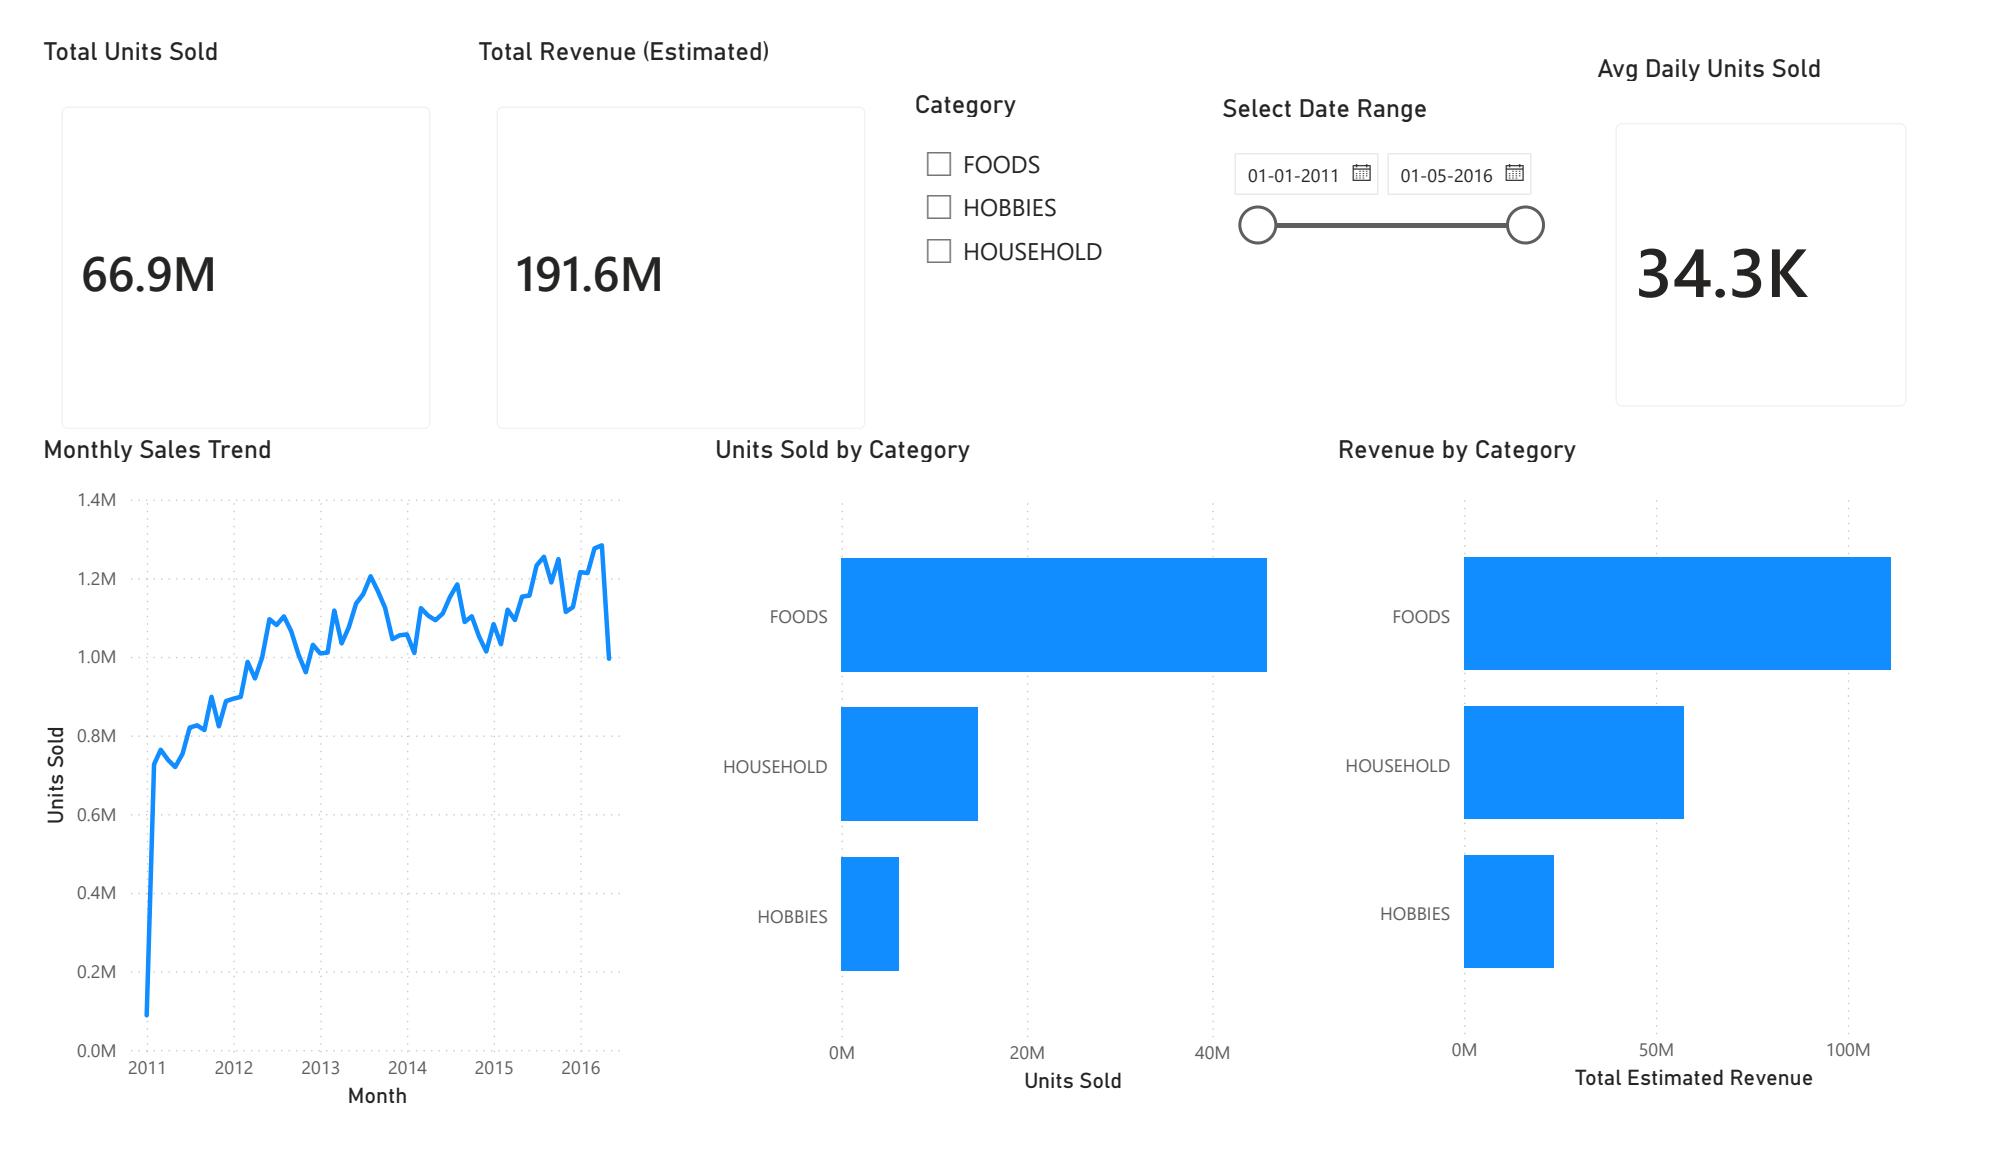

What the dashboard file says about the page in this screenshot:
{"tool":"powerbi","page":{"name":"Executive Overview","canvas":[1280,720],"ordinal":0},"visuals":[{"type":"cardVisual","title":"Total Units Sold","fields":{"Data":["Sum(monthly_demand_trends.units_sold)"]},"box":[0,0,280,280],"z":0},{"type":"cardVisual","title":"Total Revenue (Estimated)","fields":{"Data":["Sum(monthly_demand_trends.estimated_revenue)"]},"box":[290,0,280,280],"z":1000},{"type":"lineChart","title":"Monthly Sales Trend","fields":{"Y":["Sum(monthly_demand_trends.units_sold)"],"Category":["monthly_demand_trends.month"]},"box":[0,265,400,455],"z":2000},{"type":"clusteredBarChart","title":"Units Sold by Category","fields":{"Category":["category_sales.cat_id"],"Y":["Sum(monthly_demand_trends.units_sold)"]},"box":[447.5,265,415,445],"z":3000},{"type":"slicer","title":"Category","fields":{"Values":["monthly_demand_trends.cat_id"]},"box":[581.2,35,156.2,230],"z":4000},{"type":"clusteredBarChart","title":"Revenue by Category ","fields":{"Category":["monthly_demand_trends.cat_id"],"Y":["Sum(monthly_demand_trends.estimated_revenue)"]},"box":[862.5,265,417.5,442.5],"z":5000},{"type":"slicer","title":"Select Date Range","fields":{"Values":["monthly_demand_trends.month"]},"box":[786.2,37.5,227.5,227.5],"z":6000},{"type":"cardVisual","title":"Avg Daily Units Sold","fields":{"Data":["Avg(monthly_demand_trends.units_sold)"]},"box":[1036.2,11.2,227.5,253.8],"z":7000}]}

Visuals, with their boxes in screenshot pixels (x1, y1, x2, y2), scaled from the page's 1280x720 canvas onto the 1992x1152 screenshot:
"Total Units Sold" cardVisual: (0, 0, 436, 448)
"Total Revenue (Estimated)" cardVisual: (451, 0, 887, 448)
"Monthly Sales Trend" lineChart: (0, 424, 622, 1151)
"Units Sold by Category" clusteredBarChart: (696, 424, 1342, 1136)
"Category" slicer: (904, 56, 1148, 424)
"Revenue by Category " clusteredBarChart: (1342, 424, 1991, 1132)
"Select Date Range" slicer: (1224, 60, 1578, 424)
"Avg Daily Units Sold" cardVisual: (1613, 18, 1967, 424)
